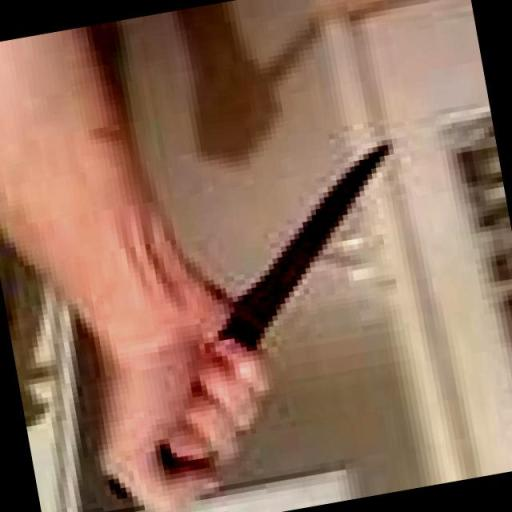knife: (47, 126, 456, 512)
